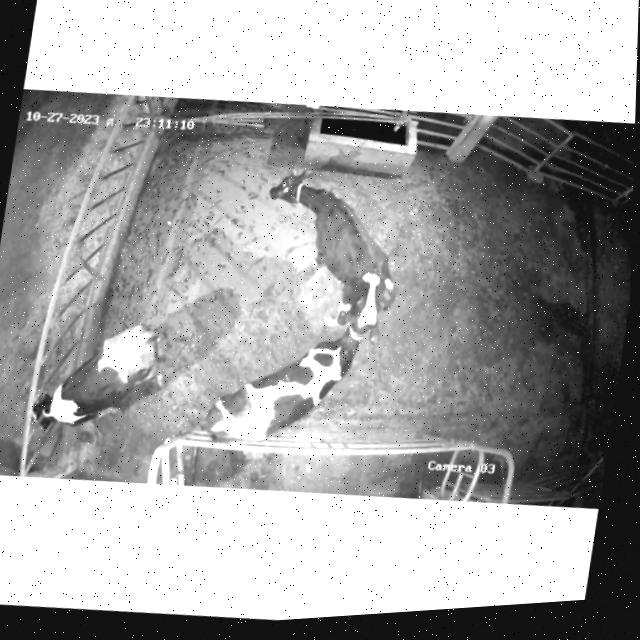propping: (324, 247, 401, 356)
